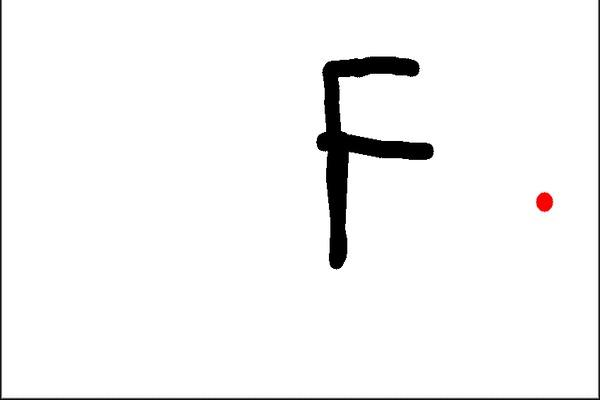F: (312, 53, 436, 270)
